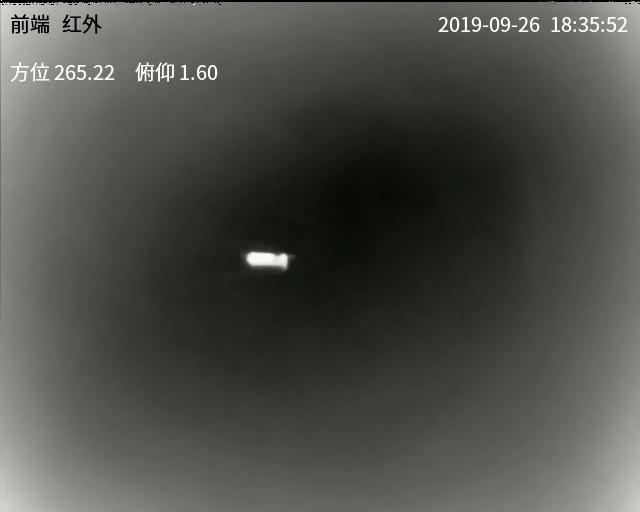uav: (238, 244, 293, 272)
